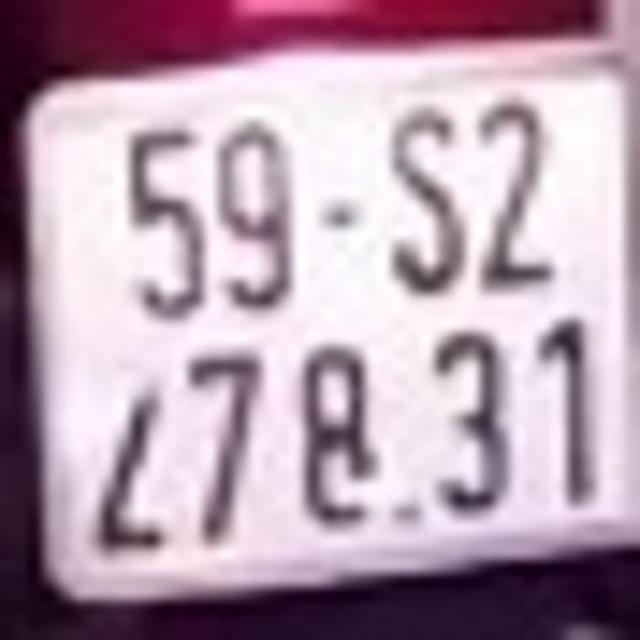1: (528, 308, 616, 514)
2: (79, 343, 173, 554), (476, 92, 561, 300)
3: (422, 314, 518, 520)
5: (118, 122, 212, 328)
7: (180, 337, 275, 554)
8: (290, 334, 384, 532)
9: (213, 114, 305, 321)
S: (378, 92, 473, 302)
